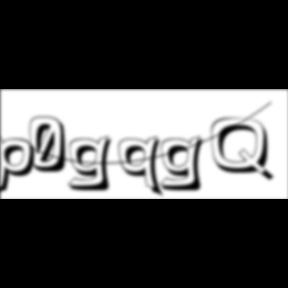0: (30, 115, 74, 174)
Q: (211, 117, 277, 184)
g: (68, 134, 120, 194), (159, 134, 211, 194)
p: (0, 132, 42, 198)
q: (119, 135, 168, 200)
